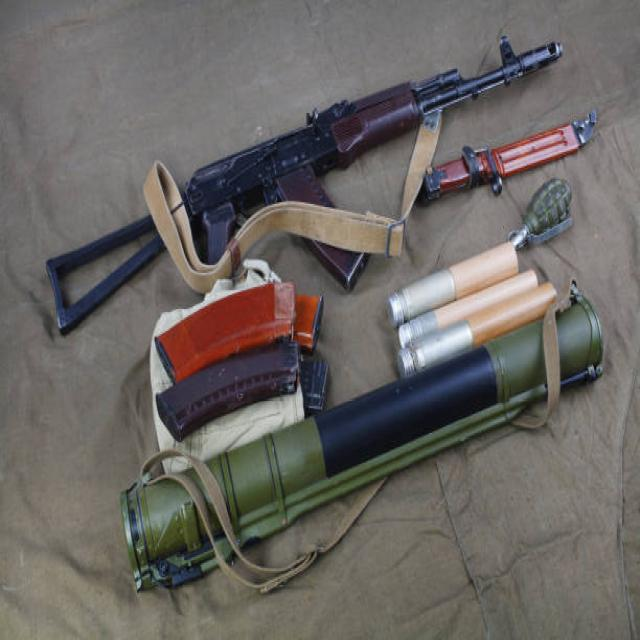grenade: (510, 179, 577, 257)
